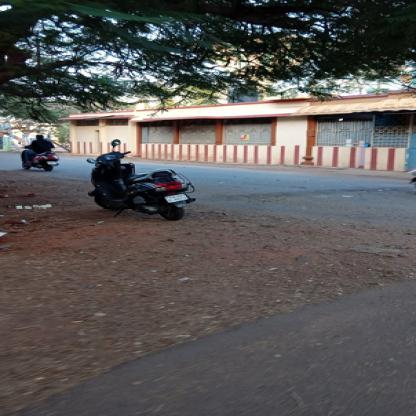speed-bumps: (195, 180, 414, 204)
